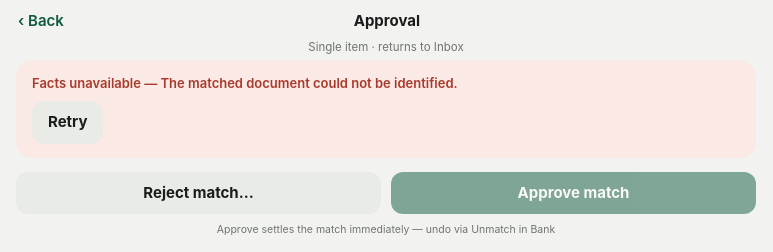
it: ApprovalScreen › bank-match approval facts (issue #256) › refuses a malformed payload (missing amounts/currency) — the target kind alone never passes
Expected: the text "could not be identified" is shown, [32,75,458,91]
Expected: the button "Approve match" is disabled, [391,172,756,214]
Click the button "Retry": {"x": 68, "y": 123} [32,101,104,144]
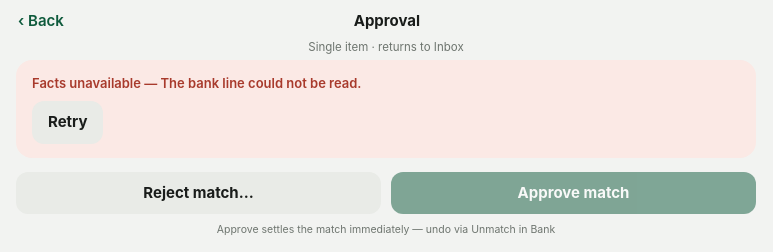
Expected: the button "Approve match" is disabled, [391,172,756,214]
Expected: the text "Facts unavailable — The bank line could not be read." is shown, [32,75,362,91]
